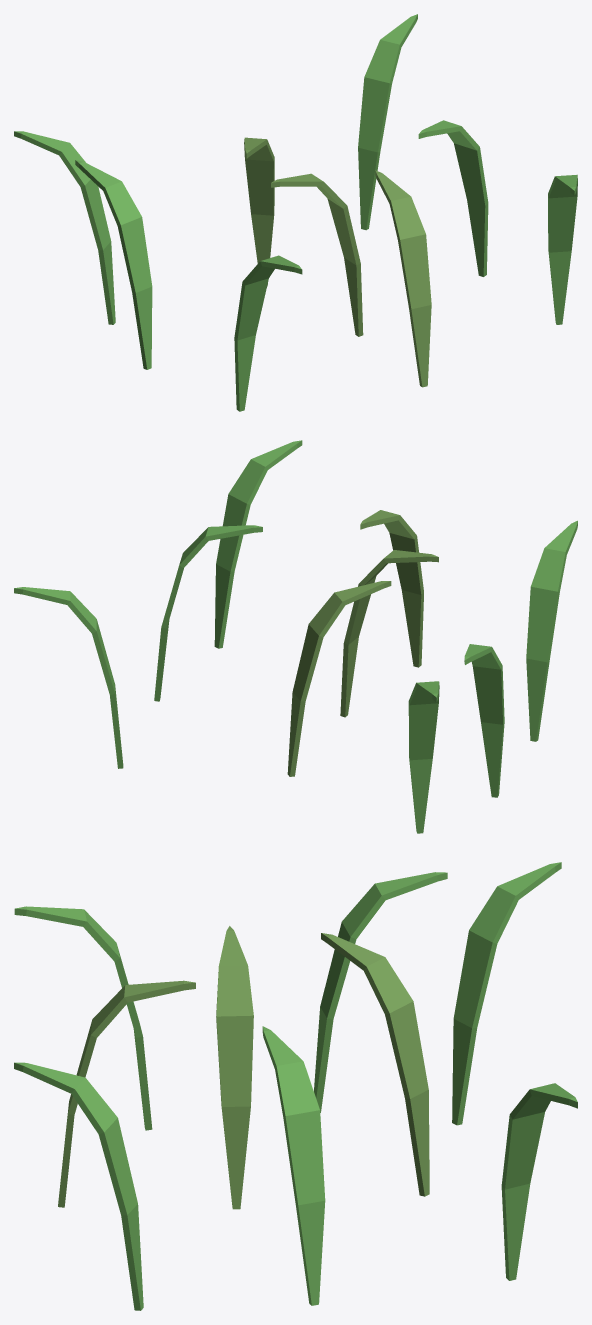
The model's file is Wheat_1-optimized.glb.
3 views of the same model, one above another, from view 1: azimuth 30°, elevation 25°; view 2: azimuth 150°, elevation 25°; view 3: azimuth 270°, elevation 25° (orthographic). The views are drawn at different scales.
Parts seen in each view (by area): view 1: Wheat_1.011, Wheat_1.005, Wheat_1.006, Wheat_1.003, Wheat_1.002, Wheat_1.009, Wheat_1.010, Wheat_1.007, Wheat_1; view 2: Wheat_1.003, Wheat_1.009, Wheat_1.007, Wheat_1.006, Wheat_1.010, Wheat_1.011, Wheat_1, Wheat_1.005, Wheat_1.002; view 3: Wheat_1.002, Wheat_1, Wheat_1.007, Wheat_1.010, Wheat_1.009, Wheat_1.005, Wheat_1.006, Wheat_1.011, Wheat_1.003.
Boxes of the visible parts, x1,y1,x2,y2 form: Wheat_1.011: [375, 170, 431, 387]; Wheat_1.005: [358, 14, 417, 230]; Wheat_1.006: [75, 160, 152, 369]; Wheat_1.003: [234, 255, 302, 411]; Wheat_1.002: [418, 120, 488, 276]; Wheat_1.009: [548, 174, 577, 324]; Wheat_1.010: [14, 131, 115, 324]; Wheat_1.007: [244, 137, 274, 286]; Wheat_1: [271, 173, 363, 336]; Wheat_1.003: [526, 520, 577, 741]; Wheat_1.009: [214, 440, 302, 648]; Wheat_1.007: [287, 581, 391, 776]; Wheat_1.006: [464, 644, 504, 797]; Wheat_1.010: [408, 681, 439, 833]; Wheat_1.011: [360, 510, 423, 667]; Wheat_1: [340, 550, 438, 717]; Wheat_1.005: [14, 587, 123, 768]; Wheat_1.002: [154, 525, 262, 701]; Wheat_1.002: [262, 1026, 325, 1305]; Wheat_1: [216, 926, 253, 1209]; Wheat_1.007: [321, 933, 429, 1196]; Wheat_1.010: [452, 862, 561, 1125]; Wheat_1.009: [14, 1062, 143, 1310]; Wheat_1.005: [501, 1083, 577, 1280]; Wheat_1.006: [314, 872, 447, 1112]; Wheat_1.011: [58, 980, 195, 1207]; Wheat_1.003: [14, 906, 152, 1130].
Size of the model in its own units: 0.5332 by 0.2349 by 0.4963.
